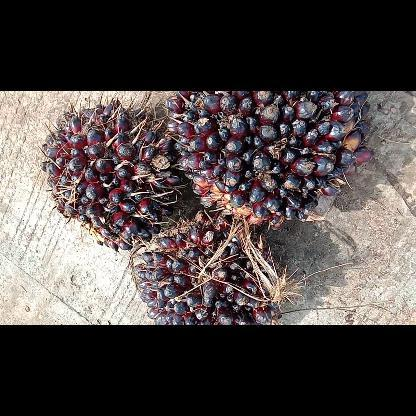TBS mentah: (162, 91, 378, 231), (34, 97, 188, 255), (128, 214, 284, 324)
